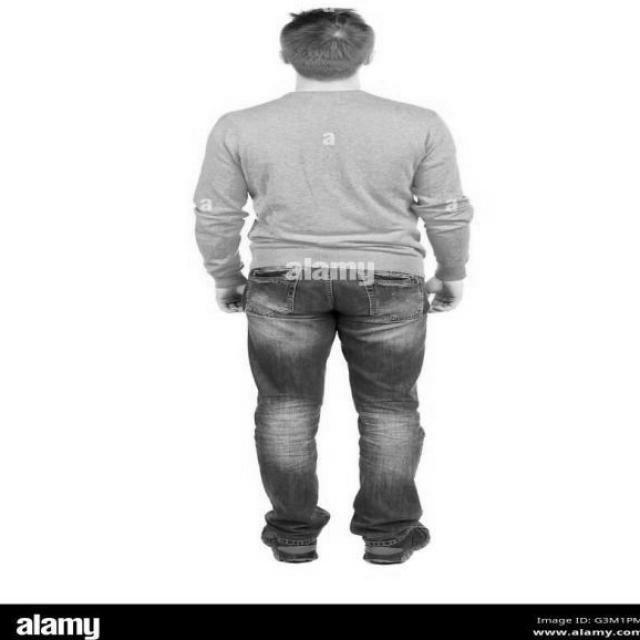person: (214, 15, 482, 539)
